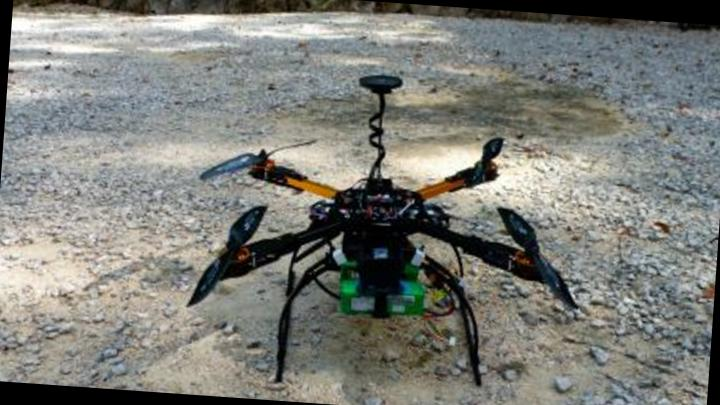drone: (166, 102, 589, 364)
